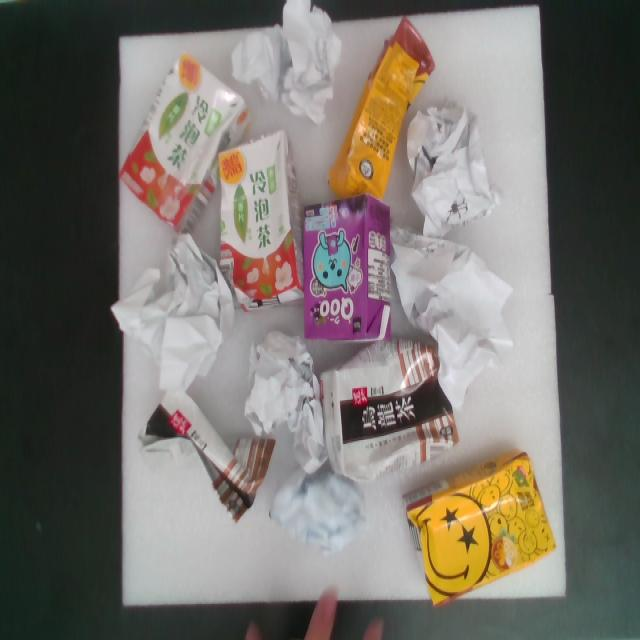juicebox: (373, 425, 579, 622), (89, 39, 271, 252), (286, 313, 489, 500), (111, 365, 304, 543), (314, 3, 458, 218), (198, 130, 317, 326), (285, 185, 407, 353)
paper: (328, 218, 553, 432), (105, 219, 252, 410), (392, 78, 523, 243), (247, 441, 393, 583), (211, 0, 351, 138), (236, 327, 333, 490)
